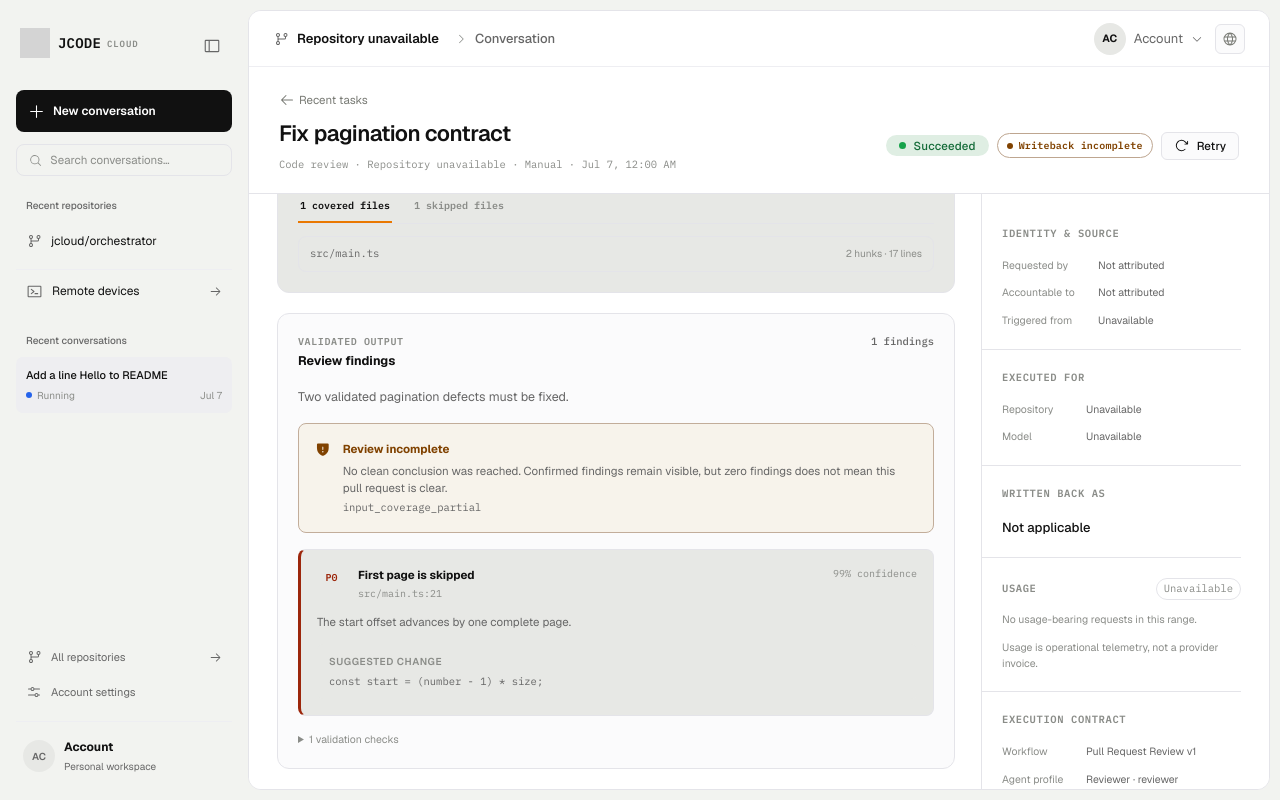
Scenario: RunDetailPage — resilient error states › shows the frozen workflow contract and deterministic review coverage
This screenshot has width=1280, height=800.
(page scrolled)
Expected: the text "Pull Request Review v1" is shown, [1086,744,1196,758]
Expected: the heading with test id "run-task-title" reads "Fix pagination contract", [279,119,511,147]
Step 1. Click the tab with test id "review-coverage-tab-skipped" → [459, 207], box [412,191,506,223]
(page scrolled)
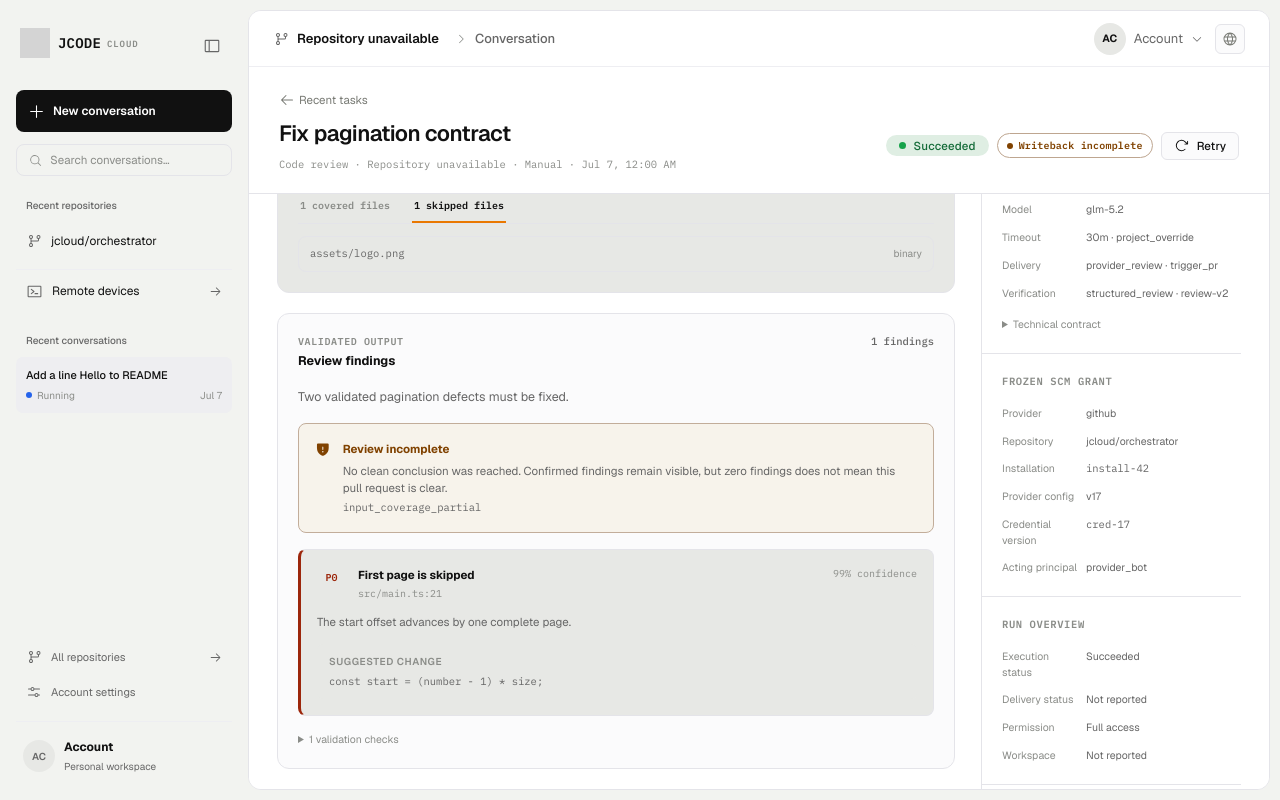
Expected: the panel is shown, [298,236,934,272]
Expected: the text "assets/logo.png" is shown, [310,246,404,262]
Expected: the element with test id "scm-grant" shows "cred-17", [1086,517,1130,531]
